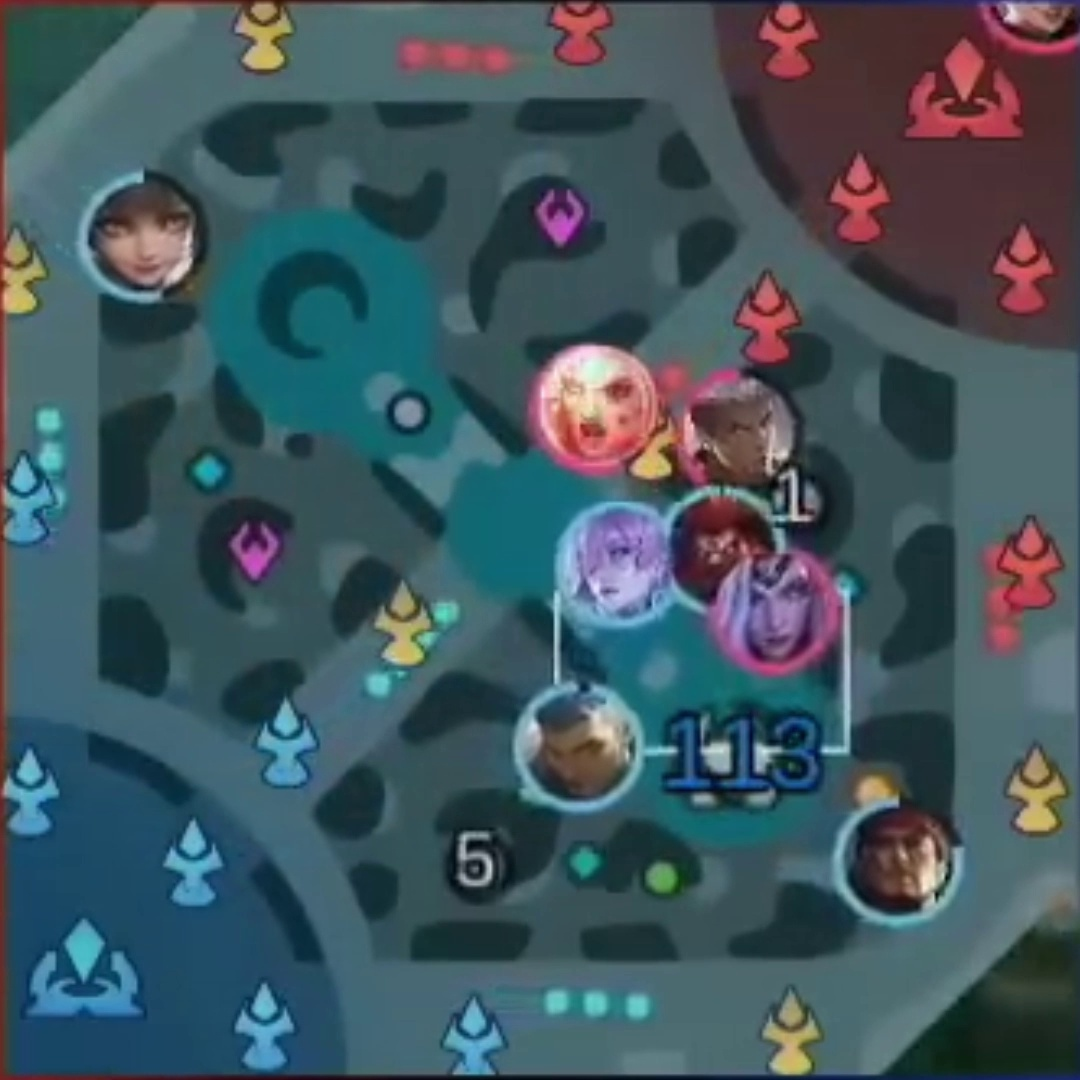Chou: (694, 387, 785, 485)
Fredrinn: (528, 701, 629, 792)
Lapu-Lapu: (861, 815, 944, 908)
Masha: (555, 356, 641, 454)
Minotaur: (679, 503, 755, 584)
Novaria: (572, 523, 668, 609)
Valentina: (734, 568, 818, 654)
Wanwan: (99, 189, 191, 282)
